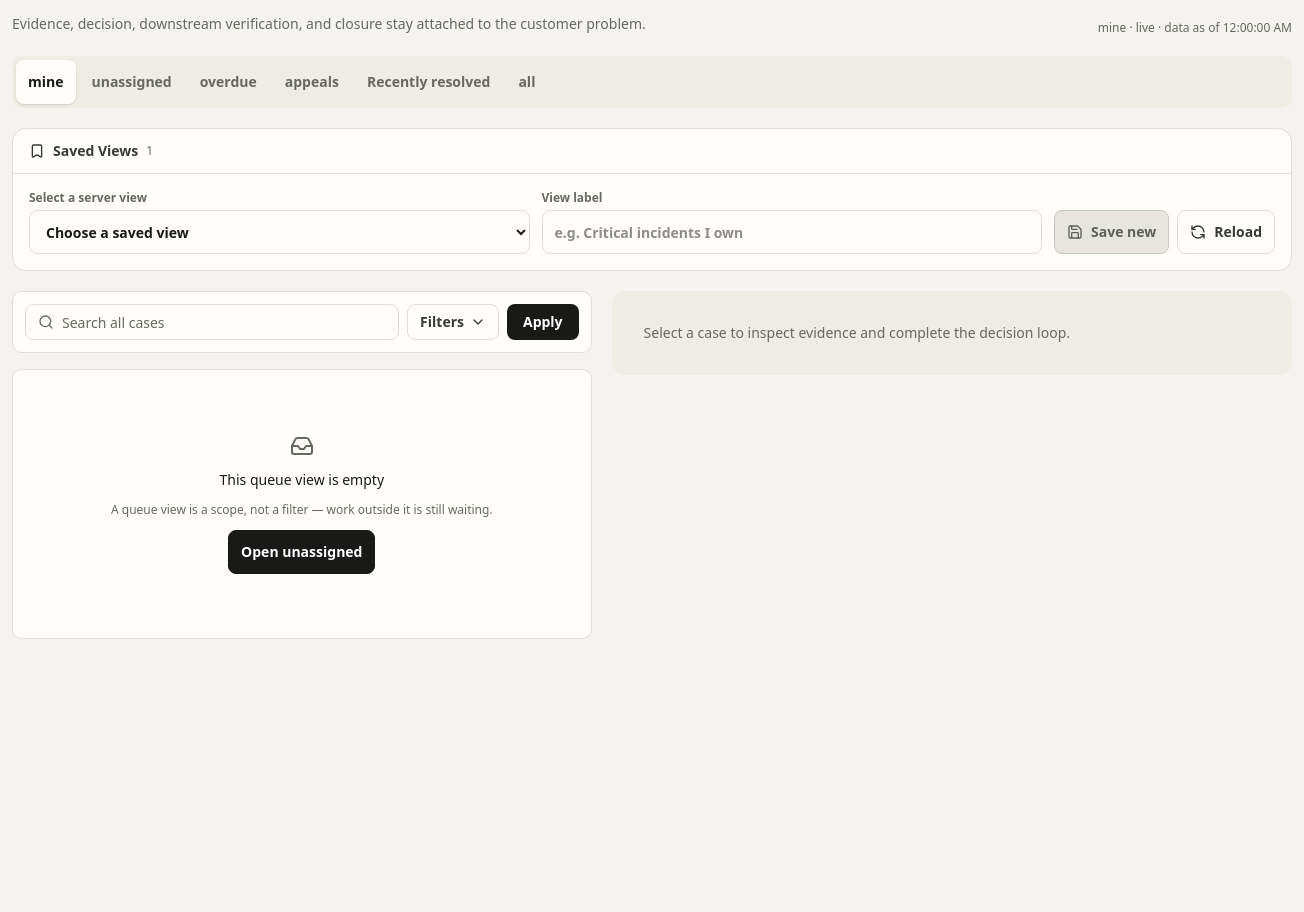
Test case: CaseWorkspace browser URL interactions › sends an operator from an empty mine queue to the unassigned queue
The image size is (1304, 912).
Click the button "Open unassigned".
click(302, 552)  # box [228,530,376,574]
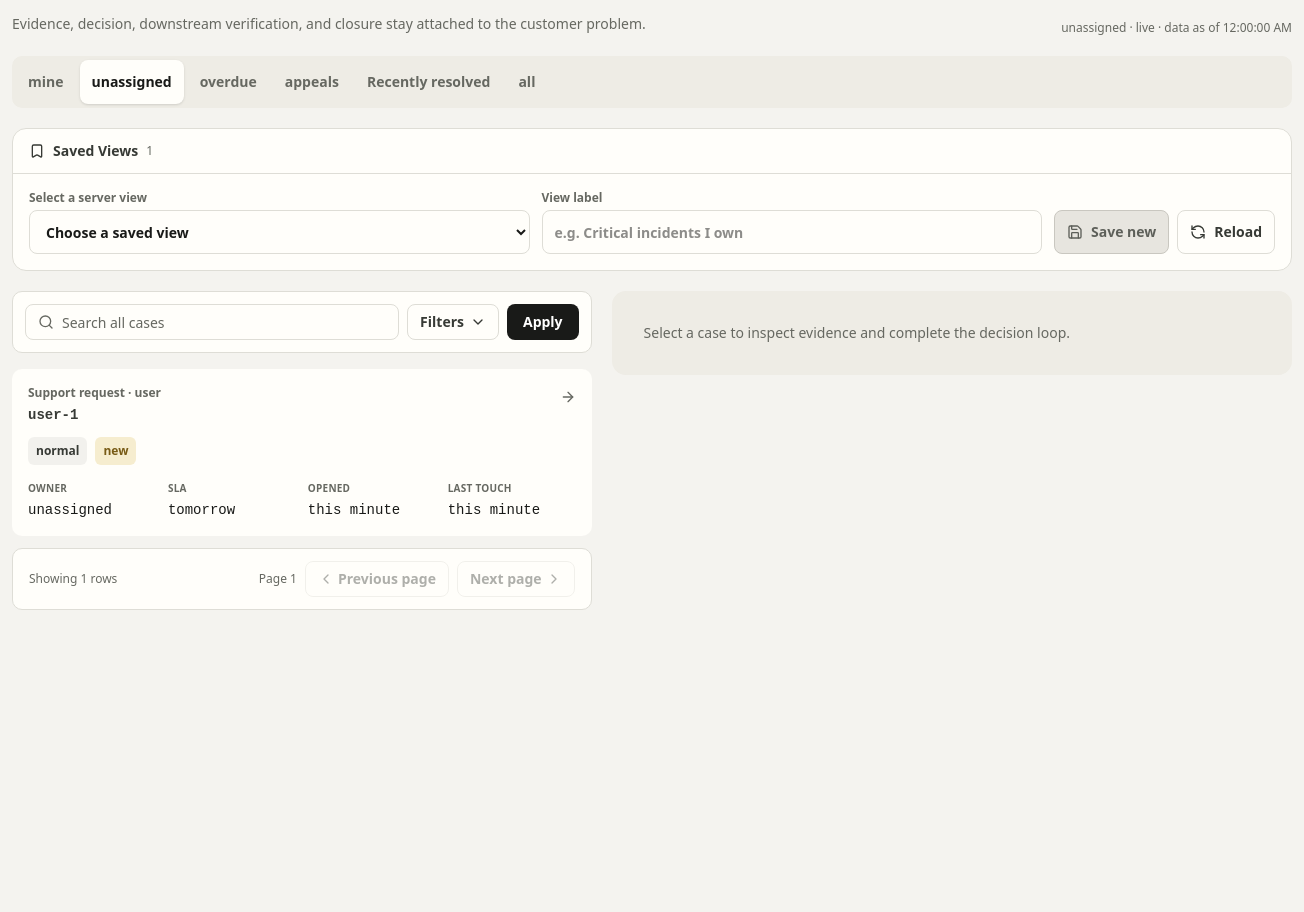
Expected: the text "This queue view is empty" is gone
